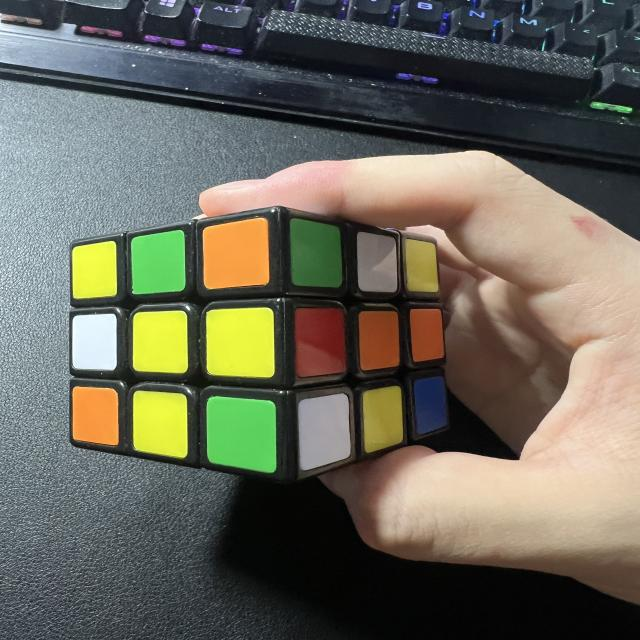blue: (409, 377, 451, 436)
center: (132, 308, 186, 372), (359, 310, 400, 371)
green: (206, 395, 275, 474), (291, 218, 340, 287), (131, 231, 184, 293)
orange: (200, 220, 272, 288), (73, 387, 116, 444), (411, 308, 445, 361)
red: (293, 306, 346, 378)
white: (295, 395, 352, 472), (68, 311, 119, 370), (359, 231, 396, 291)
yellow: (206, 309, 274, 379), (134, 391, 186, 457), (362, 385, 402, 454), (70, 240, 117, 298), (405, 236, 440, 293)
